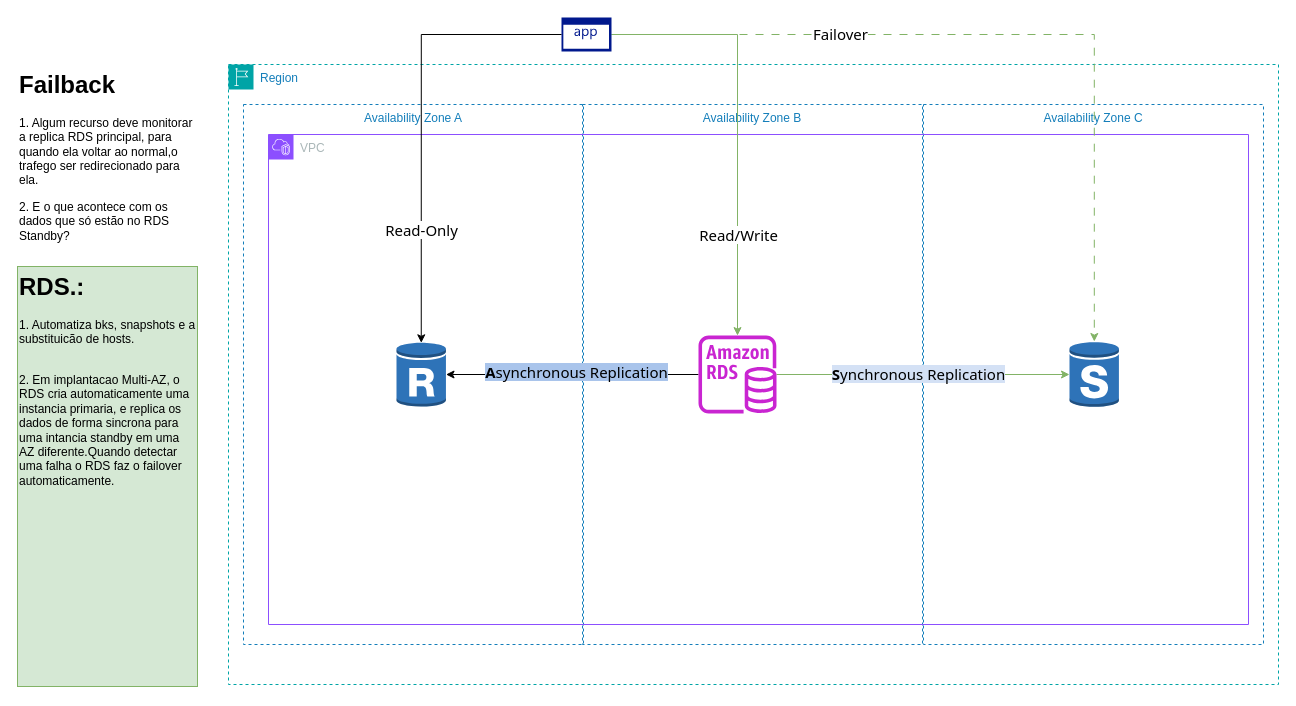
Some shapes in this 1296 by 706 pixel diagram are drawn without their labels. Here are the shapes that lost their labels. From the top down, the centre of each, then its label:
point (421, 374): RDS DB Instance Read Replica
point (1093, 374): RDS DB Standby Replica
